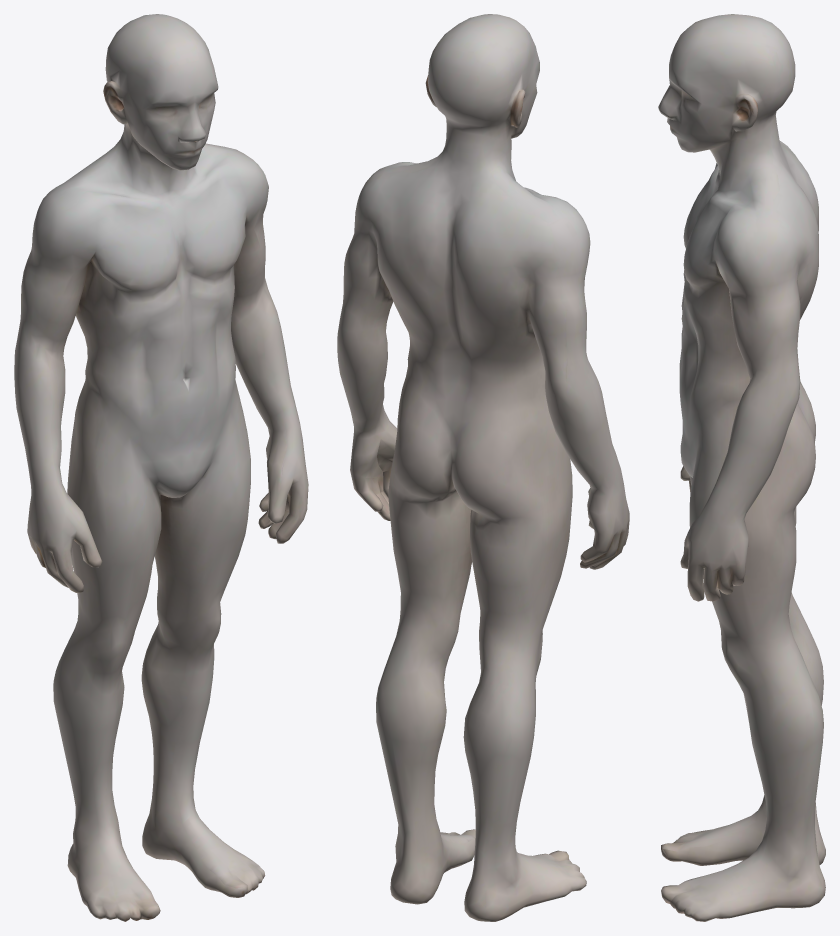
Rendered from Ruins__collapsed_b5f96b18_v3.cluster.glb.
The picture shows the model from 3 angles, left to right: view 1: azimuth 30°, elevation 25°; view 2: azimuth 150°, elevation 25°; view 3: azimuth 270°, elevation 25°; orthographic projection.
Visible parts, largest first — view 1: material; view 2: material; view 3: material.
Boxes of the visible parts, x1=… form: material: x1=14, y1=14, x2=308, y2=921; material: x1=337, y1=14, x2=629, y2=921; material: x1=658, y1=14, x2=825, y2=921.
Bounding box in the file's own units: 0.6151 × 1.9 × 0.3339.
1 material, 1 textured.
